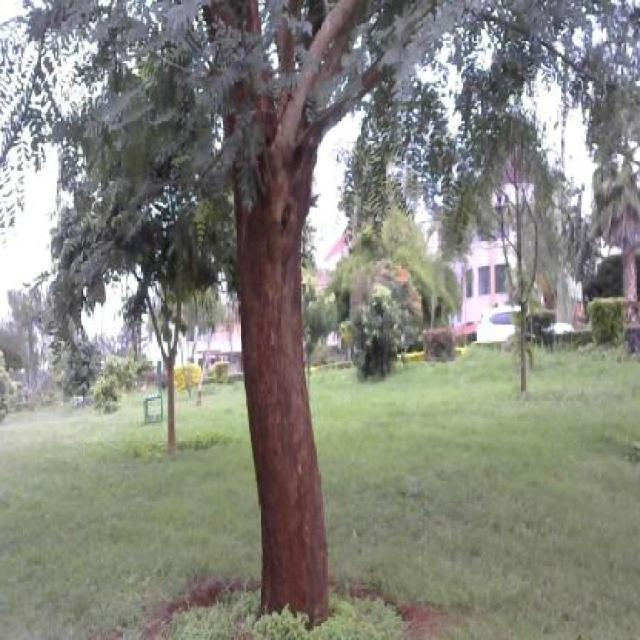tree trunk: (232, 95, 336, 616), (142, 195, 184, 462), (608, 148, 640, 342), (514, 194, 538, 408)
